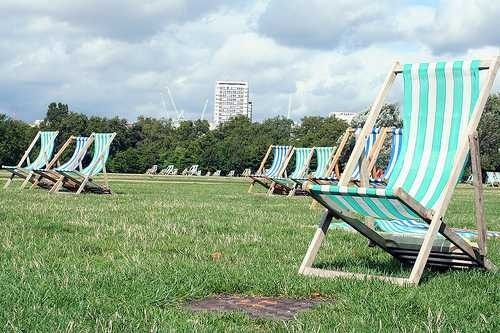obstacle: (299, 57, 499, 284)
